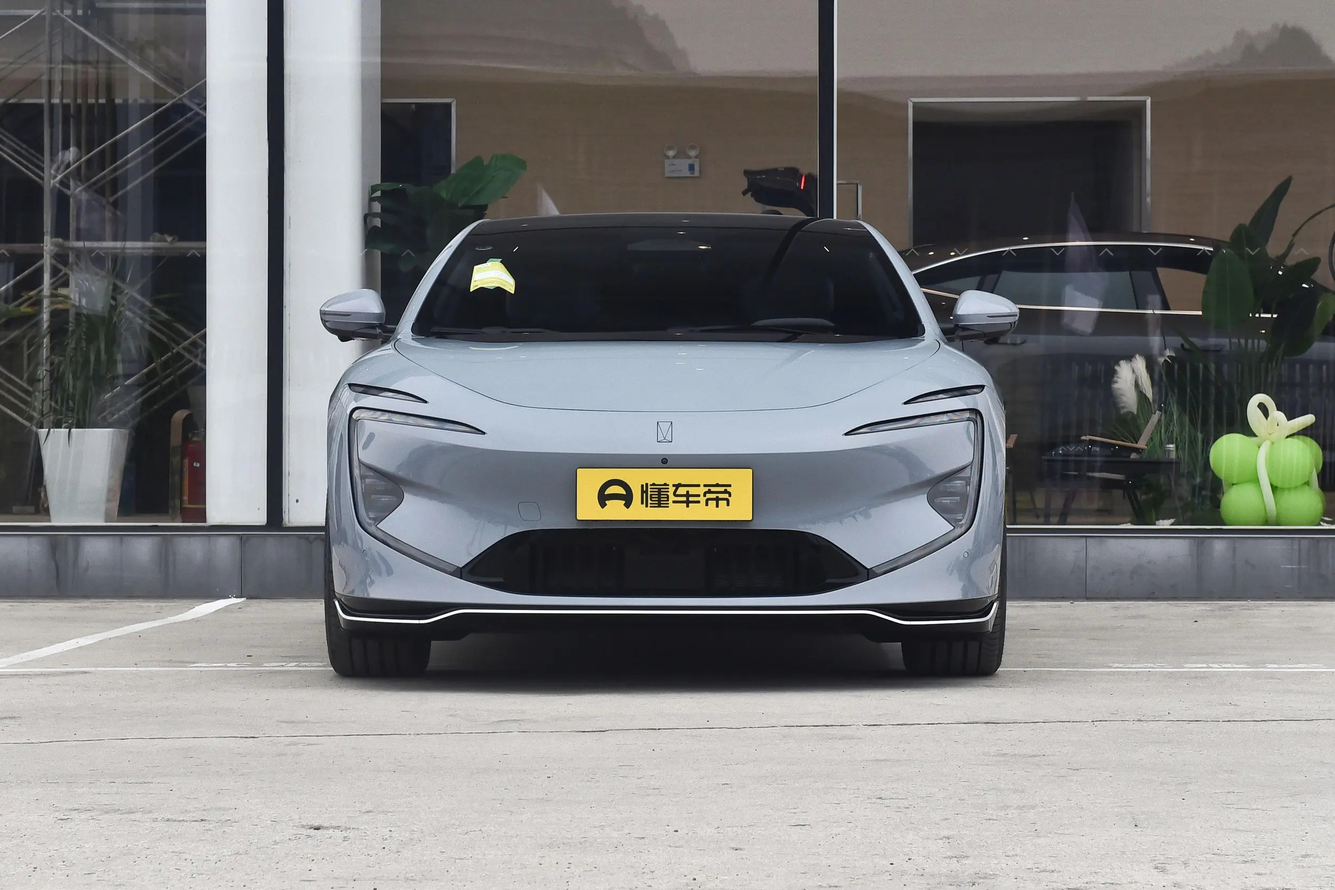AVATR: (657, 421, 672, 442)
